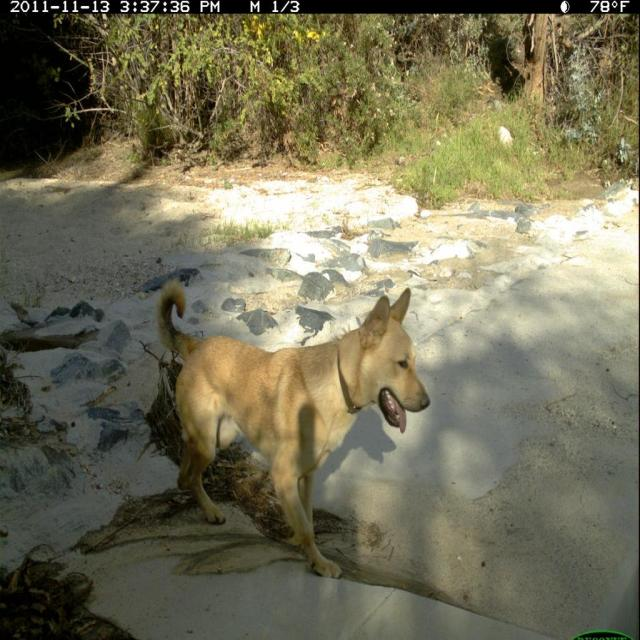dog: (153, 270, 435, 583)
